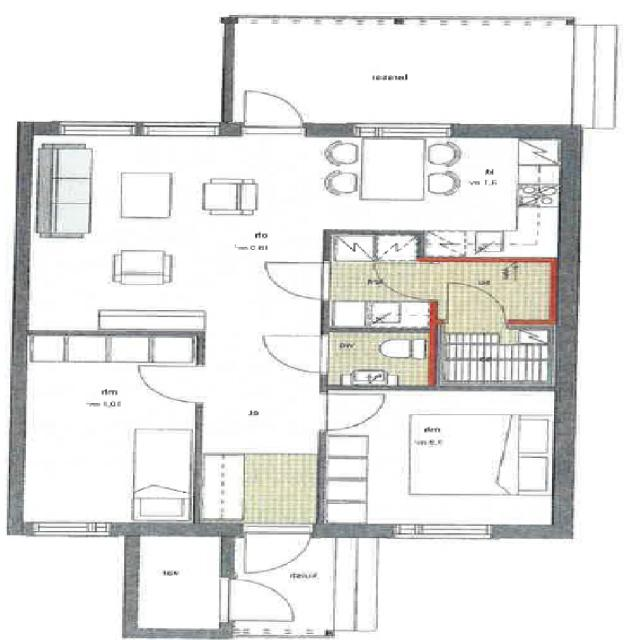door: (245, 522, 312, 579), (219, 579, 298, 620), (244, 86, 305, 138), (263, 335, 328, 372), (372, 263, 437, 300), (264, 262, 328, 298), (138, 366, 202, 402), (448, 283, 505, 323), (321, 394, 385, 429)
